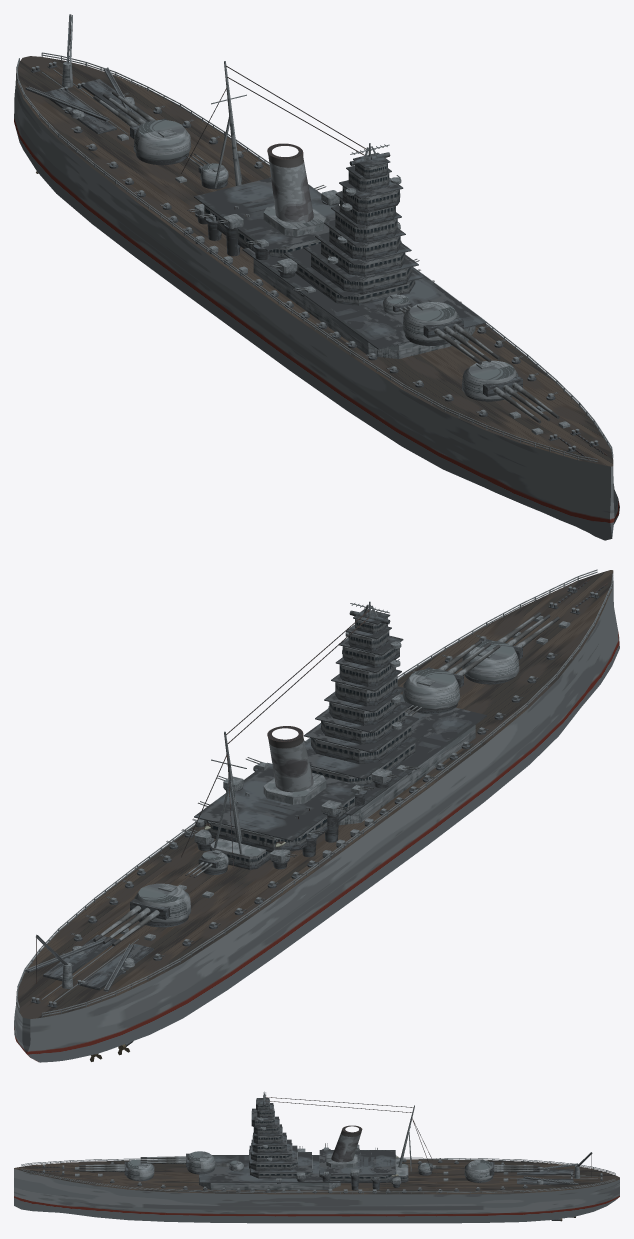
The model's file is yamato-1945-own.glb.
The picture shows the model from 3 angles, top to bottom: view 1: azimuth 30°, elevation 25°; view 2: azimuth 150°, elevation 25°; view 3: azimuth 270°, elevation 25°; orthographic projection. The views are drawn at different scales.
Visible parts, largest first — view 1: Hull, WeatherDeck, CitadelAndLowerSuperstructure, PagodaBridge, DeckEdgeRailings, Funnel, LightAAClusters, HeavyAAGalleries, AircraftDeckAndCatapults, TurretC, TurretB, TurretA (+6 smaller); view 2: Hull, WeatherDeck, CitadelAndLowerSuperstructure, PagodaBridge, DeckEdgeRailings, HeavyAAGalleries, AircraftDeckAndCatapults, LightAAClusters, Funnel, TurretB, AftDirectorAndFunnelUptake, TurretC (+8 smaller); view 3: Hull, WeatherDeck, CitadelAndLowerSuperstructure, PagodaBridge, DeckEdgeRailings, AircraftDeckAndCatapults, Funnel, HeavyAAGalleries, TurretC, TurretB, TurretA, LightAAClusters (+9 smaller).
Part boxes in pixels (x1,y1,x2,y2): Hull: (14, 73, 619, 540); WeatherDeck: (16, 56, 613, 466); CitadelAndLowerSuperstructure: (194, 177, 486, 358); PagodaBridge: (303, 152, 418, 294); DeckEdgeRailings: (16, 52, 613, 462); Funnel: (267, 143, 313, 223); LightAAClusters: (61, 93, 557, 416); HeavyAAGalleries: (187, 185, 419, 296); AircraftDeckAndCatapults: (25, 68, 149, 134); TurretC: (130, 118, 191, 160); TurretB: (402, 302, 463, 341); TurretA: (462, 360, 522, 400); Hull: (14, 579, 619, 1062); WeatherDeck: (16, 570, 613, 1019); CitadelAndLowerSuperstructure: (194, 694, 486, 852); PagodaBridge: (303, 609, 418, 764); DeckEdgeRailings: (16, 569, 613, 1017); HeavyAAGalleries: (187, 741, 419, 869); AircraftDeckAndCatapults: (26, 934, 153, 991); LightAAClusters: (61, 635, 558, 973); Funnel: (267, 726, 313, 792); TurretB: (402, 667, 463, 709); AftDirectorAndFunnelUptake: (210, 772, 326, 869); TurretC: (130, 883, 191, 923); Hull: (14, 1169, 619, 1223); WeatherDeck: (14, 1159, 619, 1194); CitadelAndLowerSuperstructure: (199, 1150, 396, 1190); PagodaBridge: (249, 1098, 297, 1170); DeckEdgeRailings: (21, 1157, 615, 1193); AircraftDeckAndCatapults: (517, 1164, 578, 1184); Funnel: (331, 1125, 362, 1162); HeavyAAGalleries: (276, 1143, 401, 1190); TurretC: (464, 1159, 494, 1180); TurretB: (186, 1151, 215, 1172); TurretA: (124, 1159, 154, 1180); LightAAClusters: (110, 1158, 550, 1193).
Size of the model in its own units: 38.8 by 59.56 by 263.
1 material, 1 textured.
